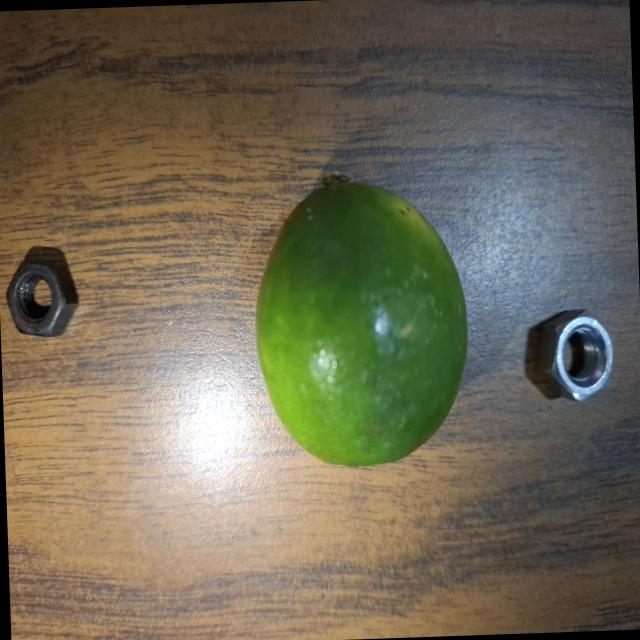limon: (248, 164, 474, 472)
milimetrico: (4, 259, 81, 340)
tuerca: (534, 303, 620, 407)
